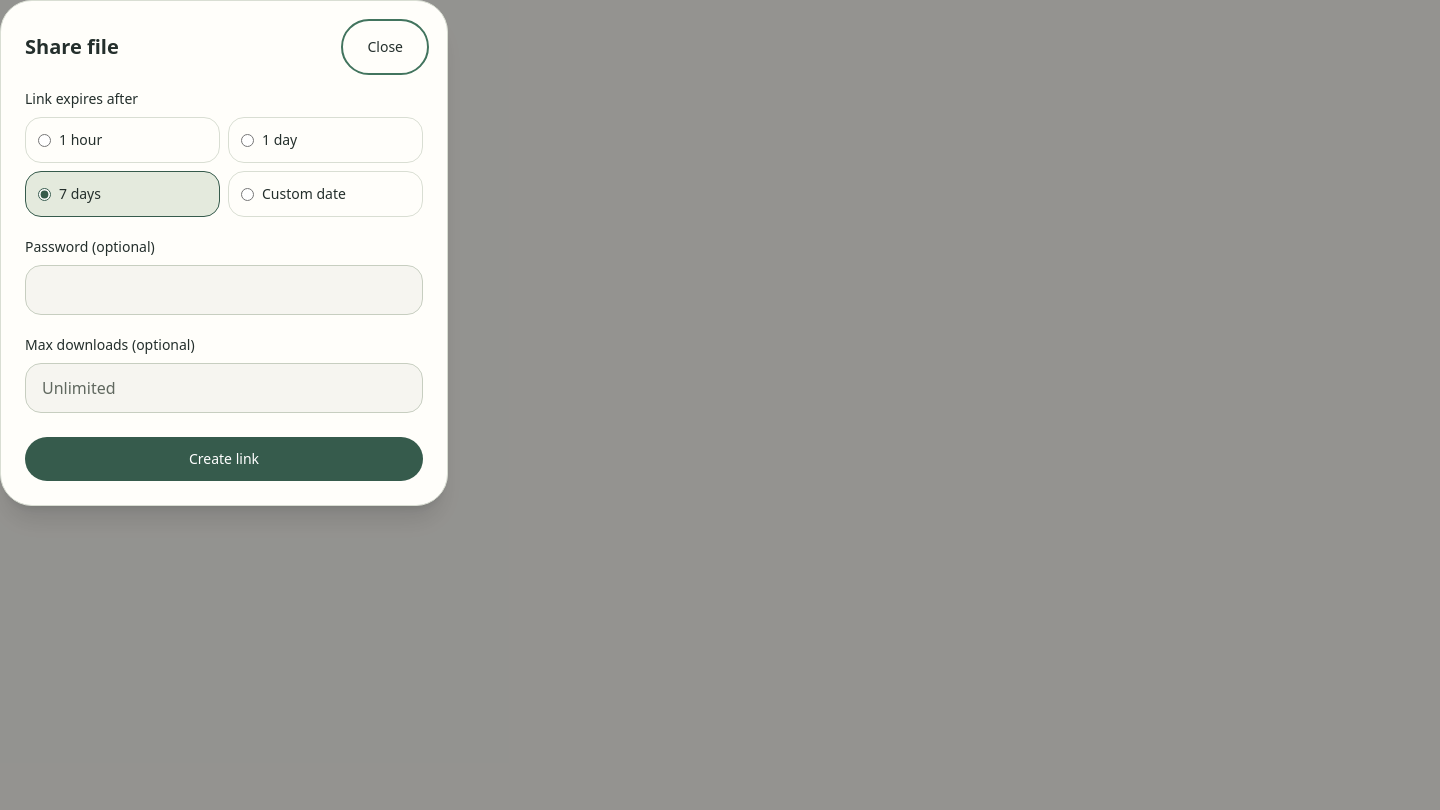
Test: rejects past custom dates and nonpositive download limits
Click the radio button labelled "Custom date" at (248, 194), box 241,188 -> 254,200
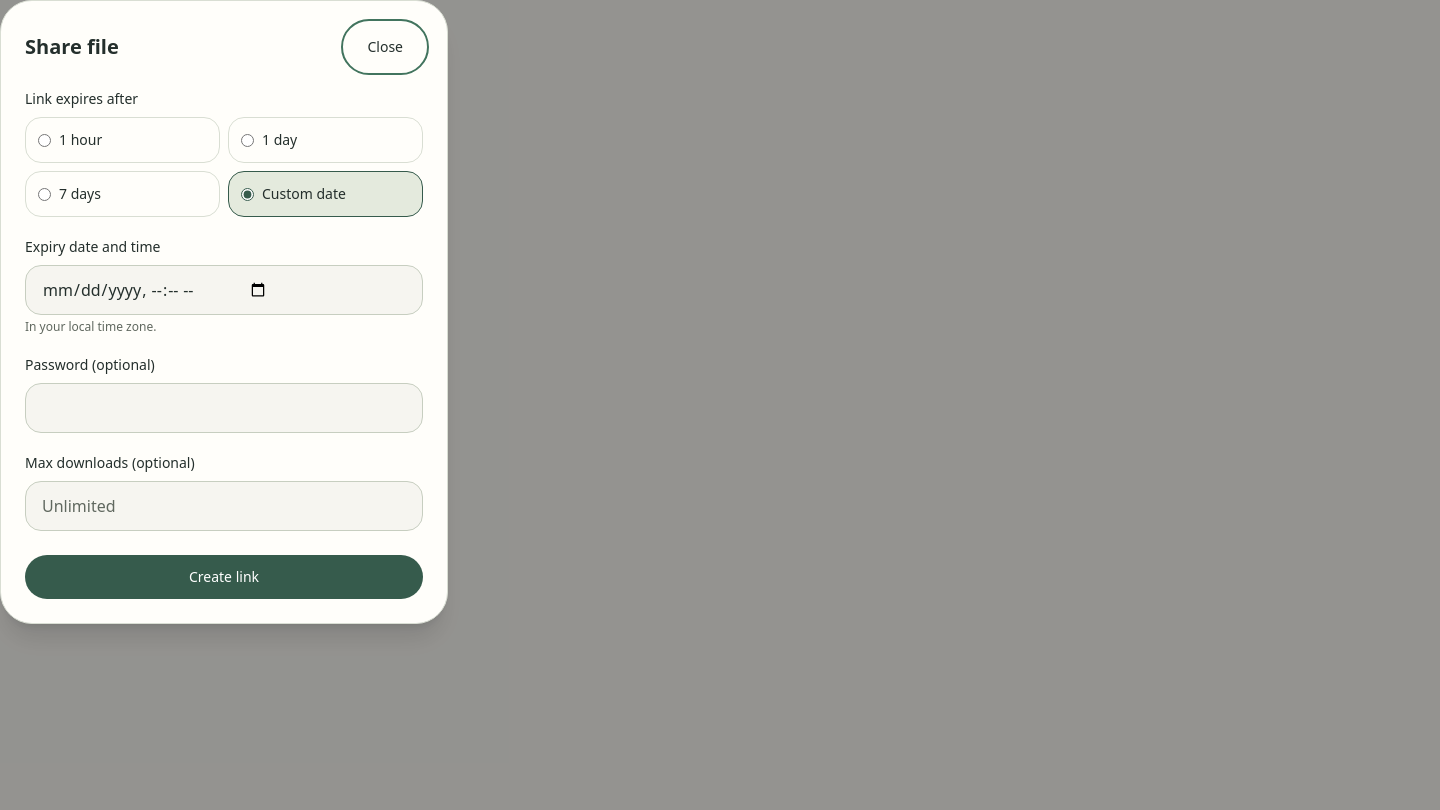
Type "2000-01-01T12:00" into the field labelled "Expiry date and time" at (224, 290), box 25,265 -> 423,315
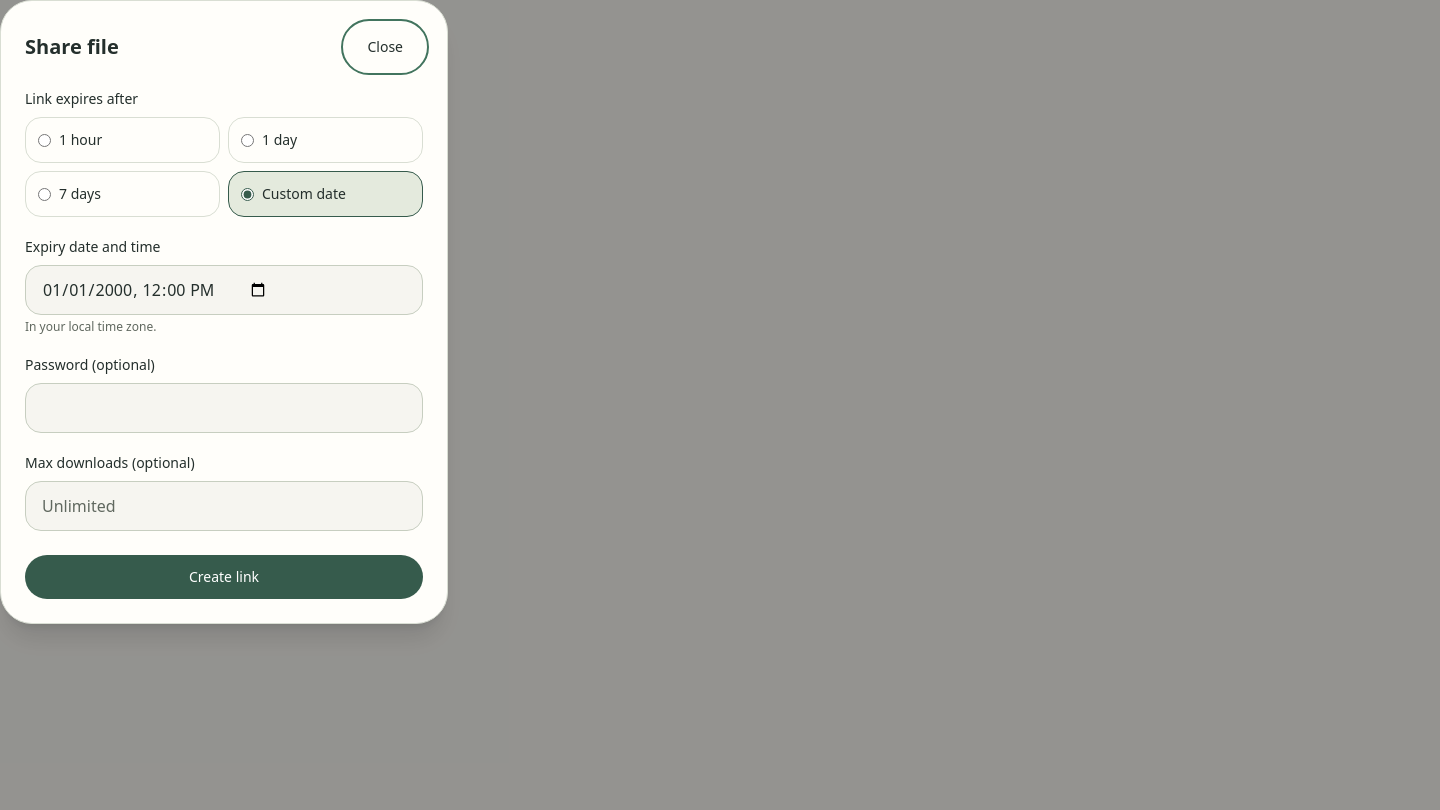
Type "0" into the number field labelled "Max downloads (optional)" at (224, 506), box 25,481 -> 423,531
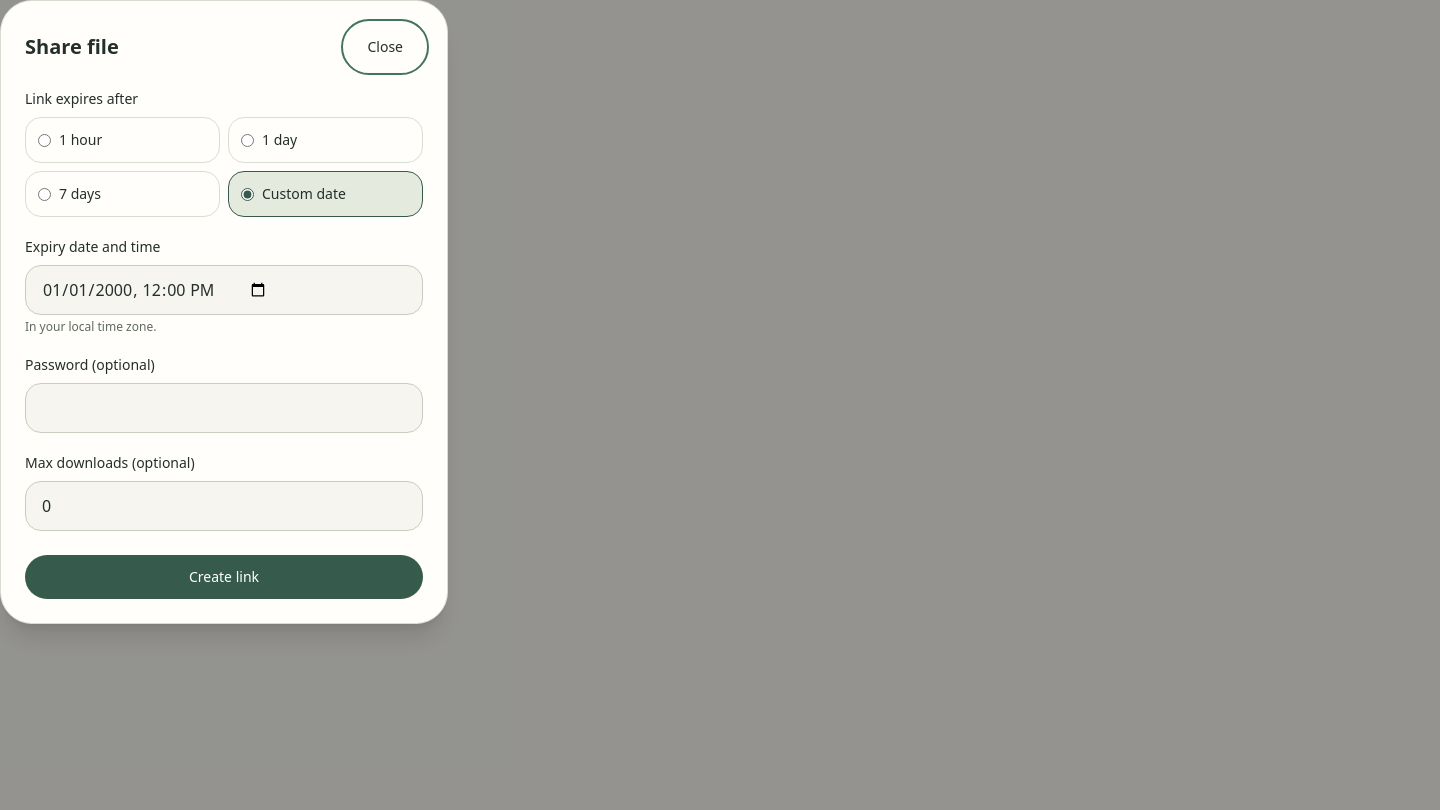
Click the button "Create link" at (224, 577), box 25,555 -> 423,599
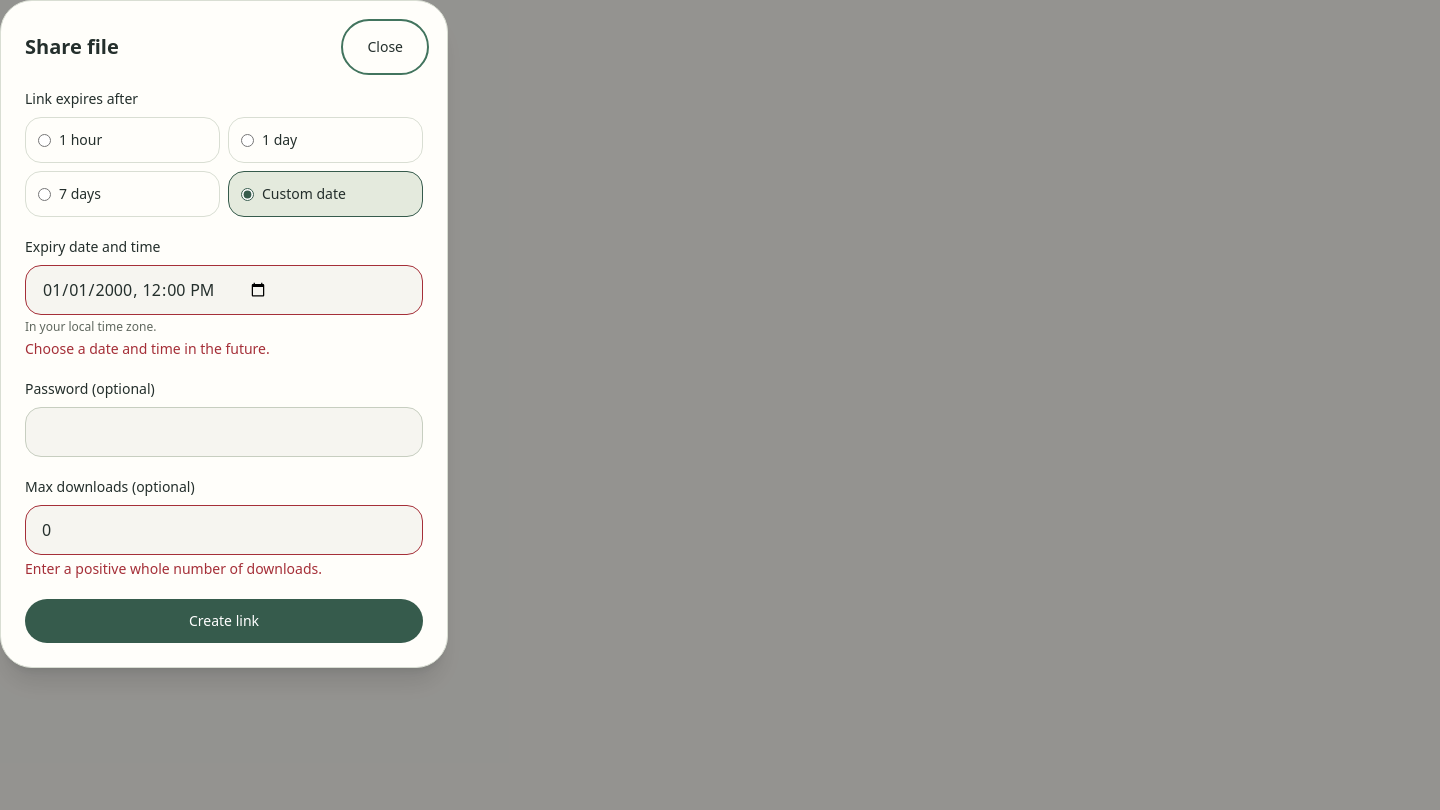
Check: the text "Choose a date and time in the future." is shown, box 25,339 -> 270,358
Check: the text "Enter a positive whole number of downloads." is shown, box 25,559 -> 322,578
